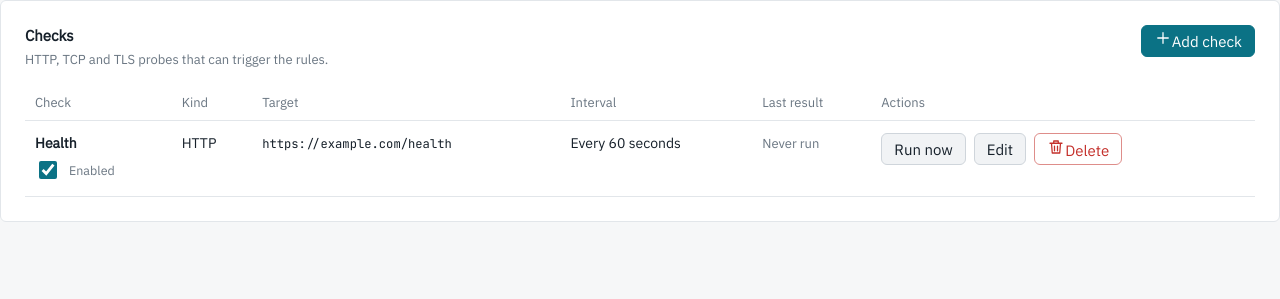
Test: alert settings › runs a check and shows the result in the row
Click the button "Run now": (924, 149) [881,133,966,165]
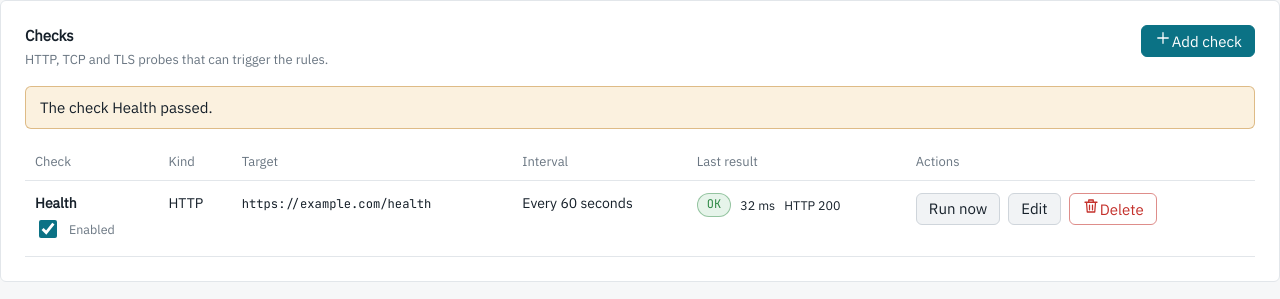
expect the text "HTTP 200" is shown: met, box [784,196,840,214]
expect the text "32 ms" is shown: met, box [740,196,775,214]
expect the text "The check Health passed." is shown: met, box [25,86,1255,129]
